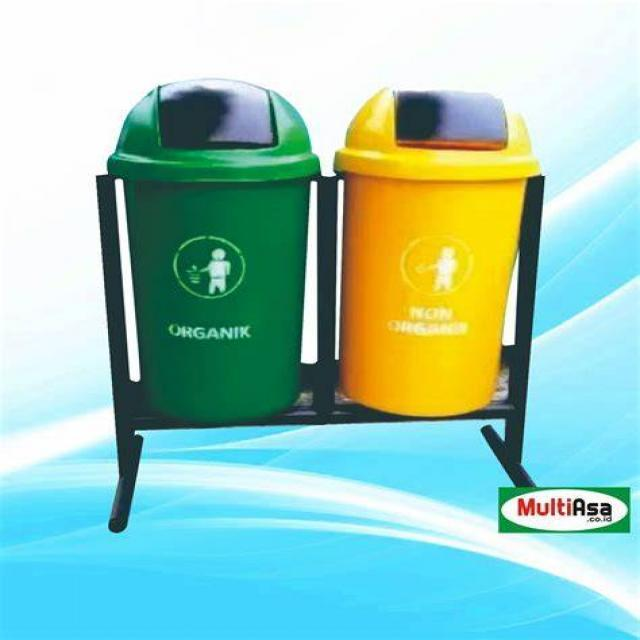garbage container: (87, 67, 345, 435), (335, 68, 554, 429)
